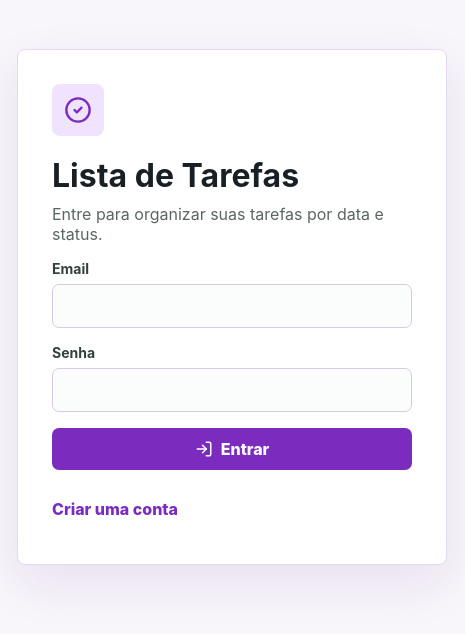
Test: Cadastro de usuario › deve cadastrar um usuario com dados validos
Click the button "Criar uma conta" at x=115, y=509, box [52,488,178,530]
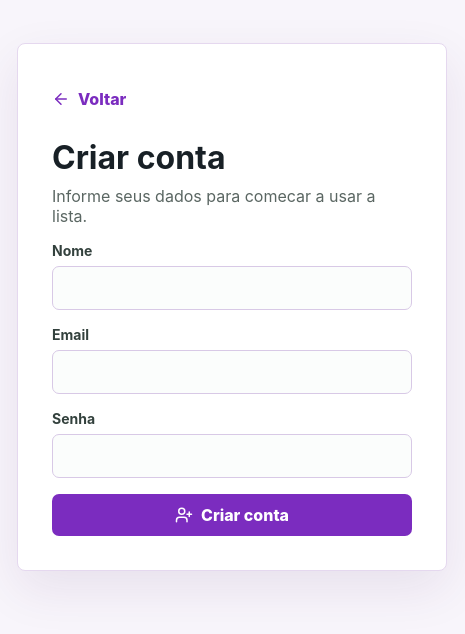
Result: the heading "Criar conta" is shown at [52,138,226,177]
Type "Maria Silva" into the field labelled "Nome" at x=232, y=288, box [52,266,412,310]
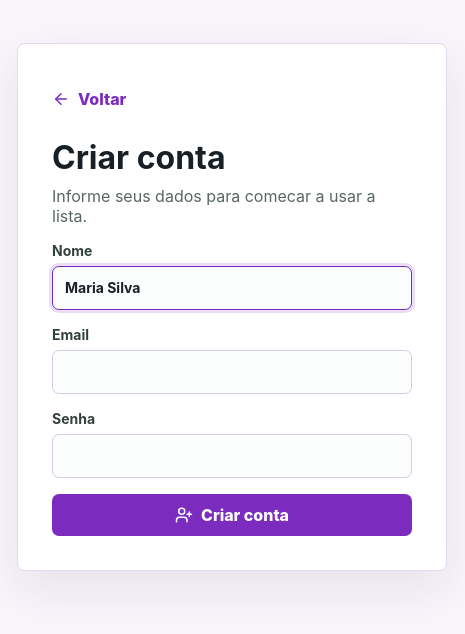
Type "maria.silva@example.com" into the field labelled "Email" at x=232, y=372, box [52,350,412,394]
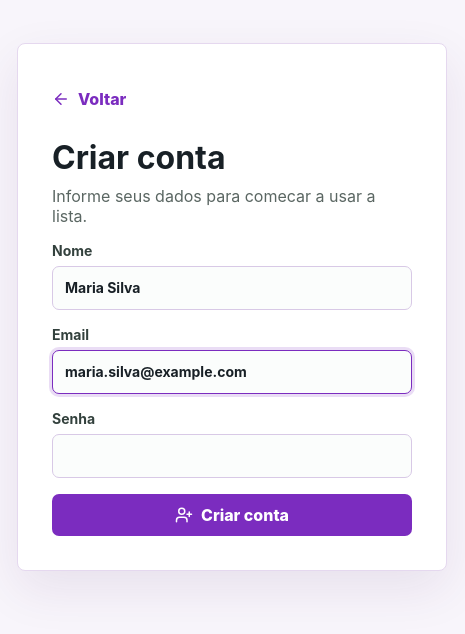
Type "senha123" into the password field labelled "Senha" at x=232, y=456, box [52,434,412,478]
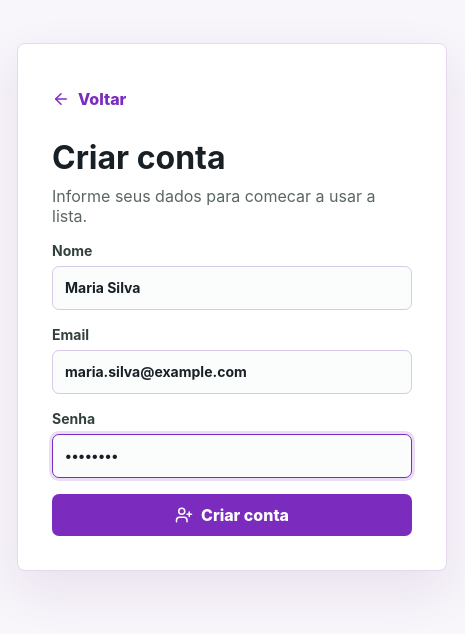
Click the button "Criar conta" at x=232, y=515, box [52,494,412,536]
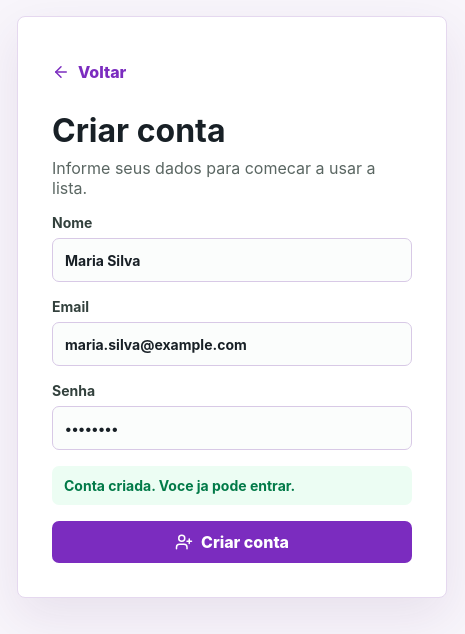
Result: the text "Conta criada. Voce ja pode entrar." is shown at [52,466,412,505]
Wait "700"
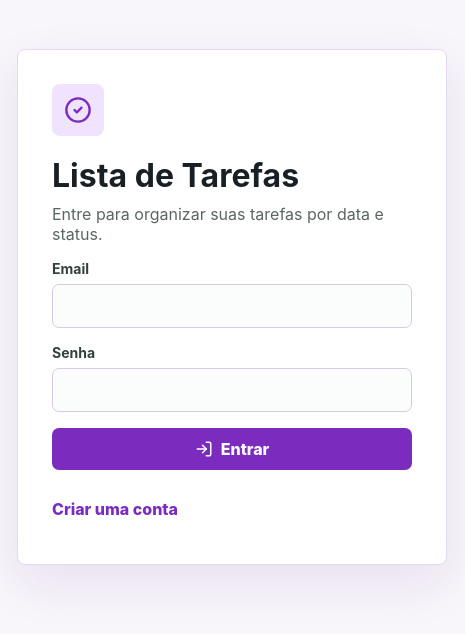
Result: the heading "Lista de Tarefas" is shown at [52,156,299,195]
